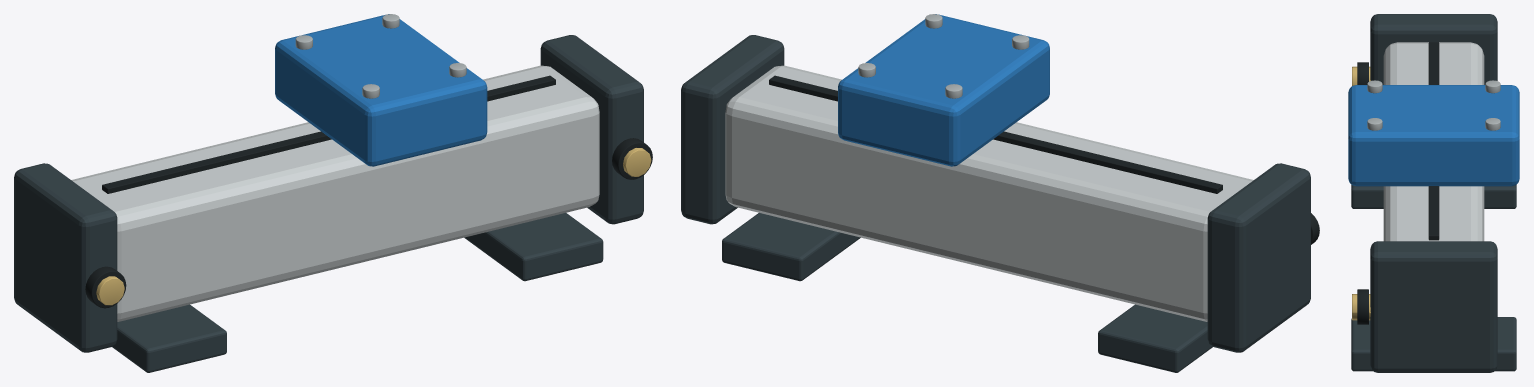
Rendered from rodless_pneumatic_cylinder.glb.
3 views of the same model, side by side, from view 1: azimuth 30°, elevation 25°; view 2: azimuth 150°, elevation 25°; view 3: azimuth 270°, elevation 25° (orthographic). The views are drawn at different scales.
Parts seen in each view (by area): view 1: EXTRUSION, KIN_CARRIAGE, END_CAP_-0.91, END_CAP_0.91, FOOT_0.65, FOOT_-0.65, SEAL_SLOT, PORT_LEFT_elbow, PORT_RIGHT_elbow, PORT_LEFT_thread, PORT_RIGHT_thread; view 2: EXTRUSION, KIN_CARRIAGE, END_CAP_-0.91, END_CAP_0.91, FOOT_0.65, FOOT_-0.65, SEAL_SLOT; view 3: KIN_CARRIAGE, END_CAP_0.91, EXTRUSION, END_CAP_-0.91, FOOT_0.65, FOOT_-0.65, SEAL_SLOT, PORT_RIGHT_elbow, PORT_LEFT_elbow, PORT_RIGHT_thread, CARRIAGE_BOLT_0.03_0.2, CARRIAGE_BOLT_0.03_-0.2 (+2 smaller).
Boxes of the visible parts, <box> form: EXTRUSION: <box>71,65,599,321</box>; KIN_CARRIAGE: <box>275,14,487,166</box>; END_CAP_-0.91: <box>14,163,117,352</box>; END_CAP_0.91: <box>540,35,643,224</box>; FOOT_0.65: <box>464,213,603,281</box>; FOOT_-0.65: <box>112,304,226,372</box>; SEAL_SLOT: <box>102,75,555,193</box>; PORT_LEFT_elbow: <box>85,266,126,308</box>; PORT_RIGHT_elbow: <box>612,138,652,179</box>; PORT_LEFT_thread: <box>96,276,124,305</box>; PORT_RIGHT_thread: <box>623,148,651,176</box>; EXTRUSION: <box>725,65,1253,321</box>; KIN_CARRIAGE: <box>838,14,1049,166</box>; END_CAP_-0.91: <box>1207,163,1310,352</box>; END_CAP_0.91: <box>681,35,784,224</box>; FOOT_0.65: <box>722,213,860,281</box>; FOOT_-0.65: <box>1098,304,1212,372</box>; SEAL_SLOT: <box>769,75,1222,193</box>; KIN_CARRIAGE: <box>1348,85,1519,186</box>; END_CAP_0.91: <box>1370,241,1497,372</box>; EXTRUSION: <box>1383,42,1484,241</box>; END_CAP_-0.91: <box>1370,14,1497,84</box>; FOOT_0.65: <box>1351,317,1516,371</box>; FOOT_-0.65: <box>1351,185,1516,208</box>; SEAL_SLOT: <box>1428,42,1439,240</box>; PORT_RIGHT_elbow: <box>1357,289,1368,324</box>; PORT_LEFT_elbow: <box>1357,62,1368,84</box>; PORT_RIGHT_thread: <box>1352,294,1370,320</box>; CARRIAGE_BOLT_0.03_0.2: <box>1485,80,1500,93</box>; CARRIAGE_BOLT_0.03_-0.2: <box>1367,80,1382,93</box>.
Bounding box in the file's own units: 1.95 × 0.725 × 0.58.
